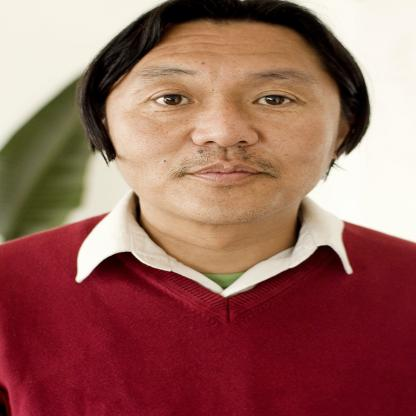Eye: (242, 85, 309, 111), (141, 88, 203, 111)
Mouth: (179, 158, 268, 186)
Nose: (190, 108, 264, 148)
